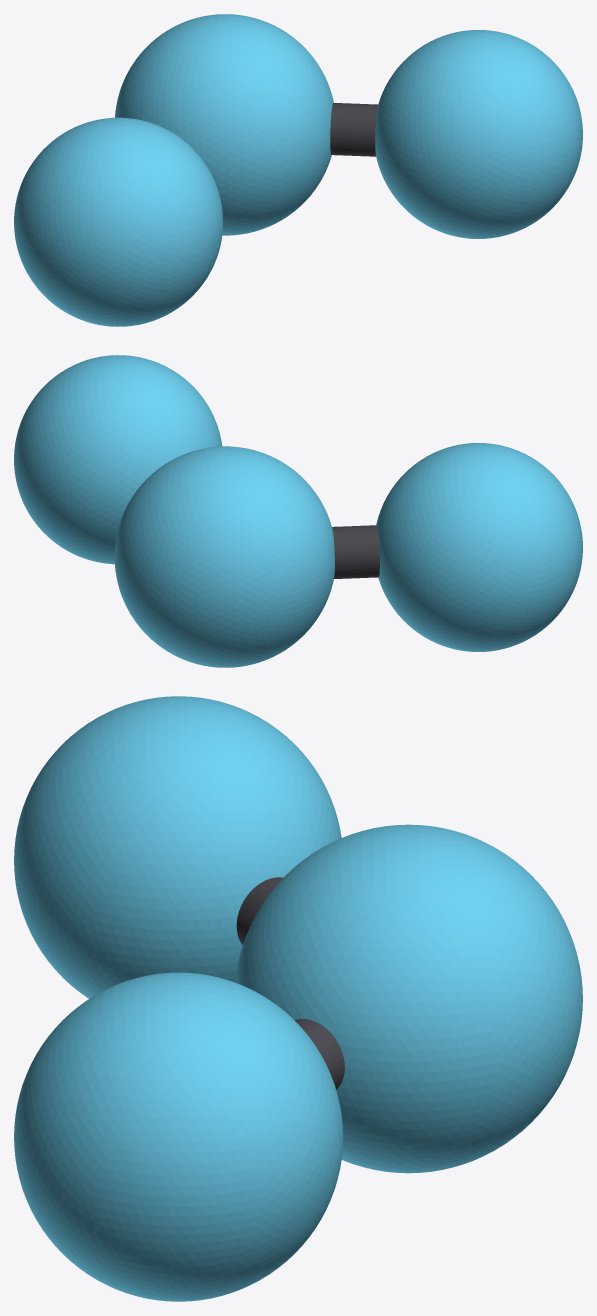
File: ozone.glb
3 renders of one model, top to bottom at view 1: azimuth 30°, elevation 25°; view 2: azimuth 150°, elevation 25°; view 3: azimuth 270°, elevation 25°, orthographic. The views are drawn at different scales.
Visible parts, largest first — view 1: Oxygen Left, Oxygen Right, Oxygen Center, O-O Bond Right; view 2: Oxygen Center, Oxygen Left, Oxygen Right, O-O Bond Left; view 3: Oxygen Right, Oxygen Center, Oxygen Left, O-O Bond Right, O-O Bond Left.
Part boxes in pixels (x1=…): Oxygen Left: x1=14, y1=117, x2=223, y2=326; Oxygen Right: x1=375, y1=30, x2=582, y2=238; Oxygen Center: x1=115, y1=14, x2=333, y2=235; O-O Bond Right: x1=330, y1=103, x2=377, y2=156; Oxygen Center: x1=114, y1=446, x2=334, y2=667; Oxygen Left: x1=376, y1=443, x2=582, y2=651; Oxygen Right: x1=14, y1=355, x2=222, y2=564; O-O Bond Left: x1=332, y1=525, x2=379, y2=578; Oxygen Right: x1=14, y1=972, x2=343, y2=1301; Oxygen Center: x1=235, y1=824, x2=582, y2=1173; Oxygen Left: x1=14, y1=696, x2=341, y2=998; O-O Bond Right: x1=294, y1=1019, x2=344, y2=1089; O-O Bond Left: x1=236, y1=877, x2=282, y2=944.
Bounding box in the file's own units: 4.06 × 1.44 × 2.35.
